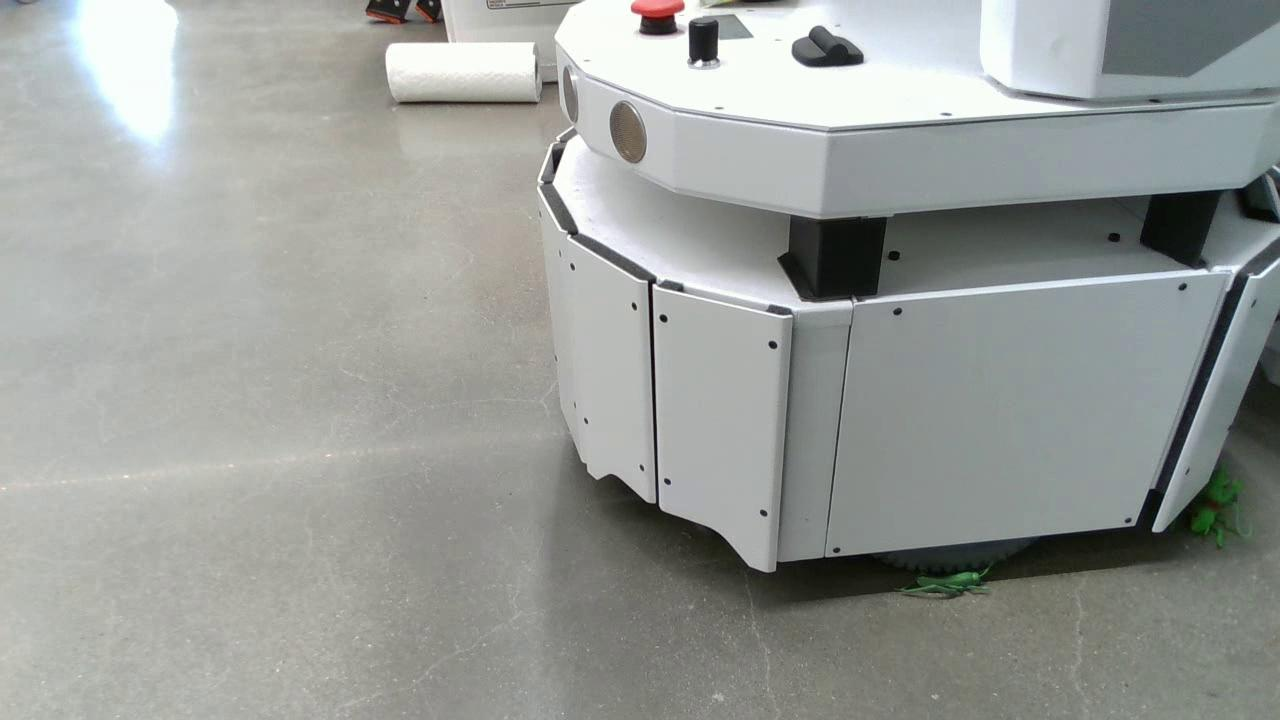grasshopper: (1193, 462, 1246, 552)
